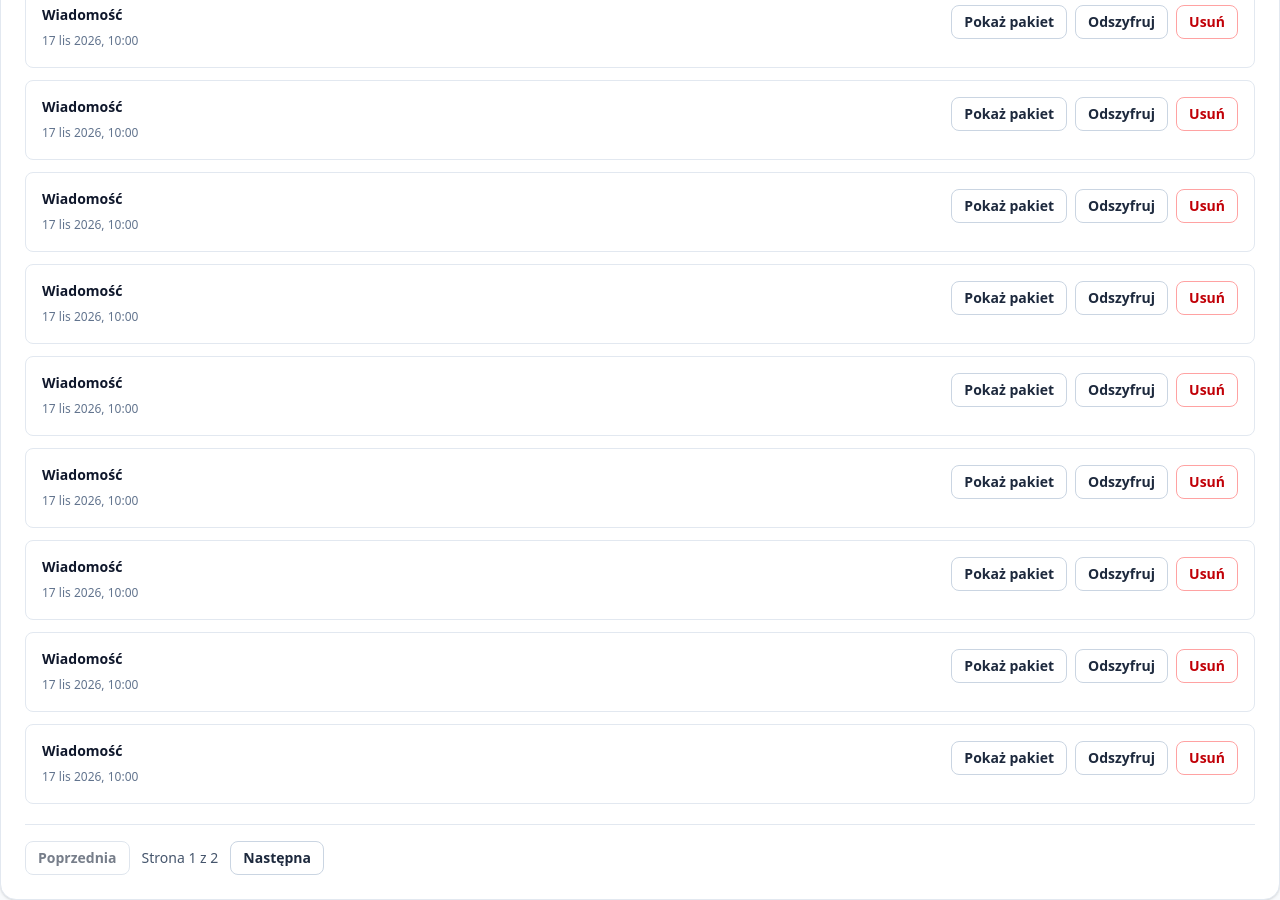
Test: MessagesPanel › przechodzi na kolejną stronę paginacji
The image size is (1280, 900).
(page scrolled)
Expected: the text "Strona 1 z 2" is shown, [142,848,218,868]
Click the button "Następna": (277, 858) [230,841,324,875]
(page scrolled)
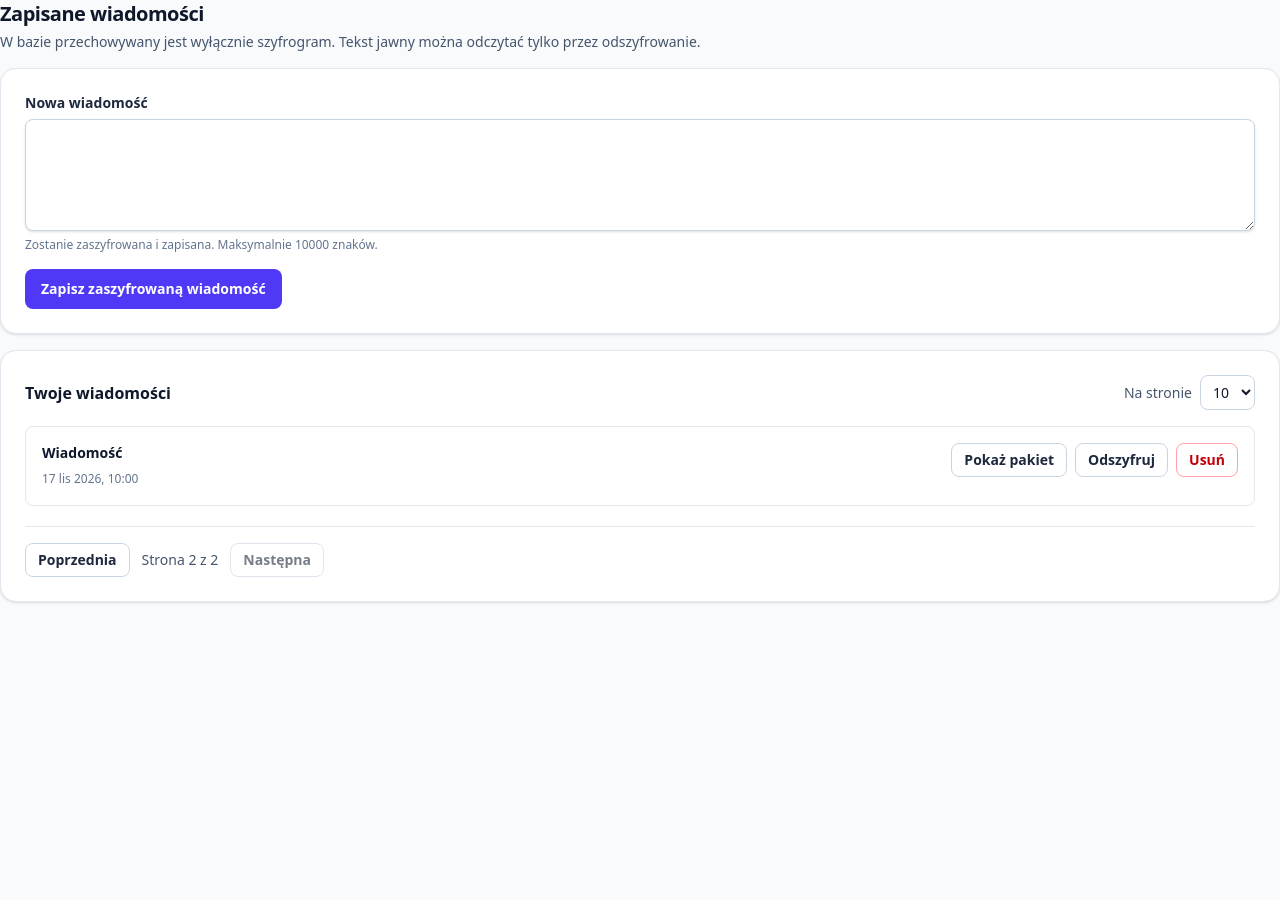
Result: the text "Strona 2 z 2" is shown at [142,550,218,570]
